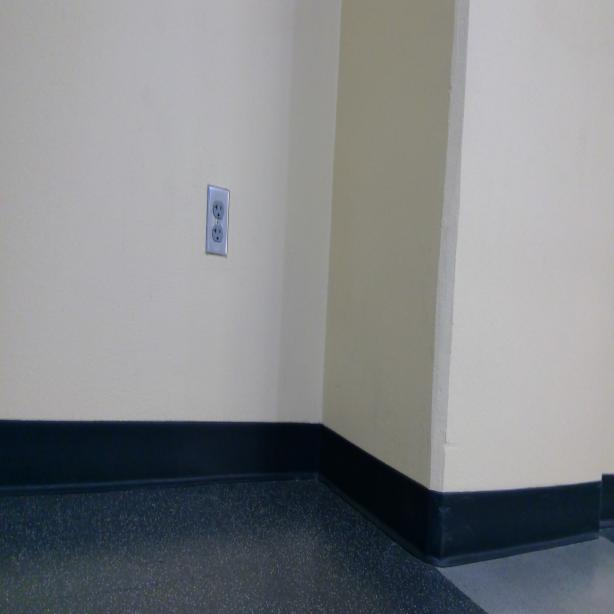typeb: (213, 198, 223, 220), (213, 226, 223, 243)
